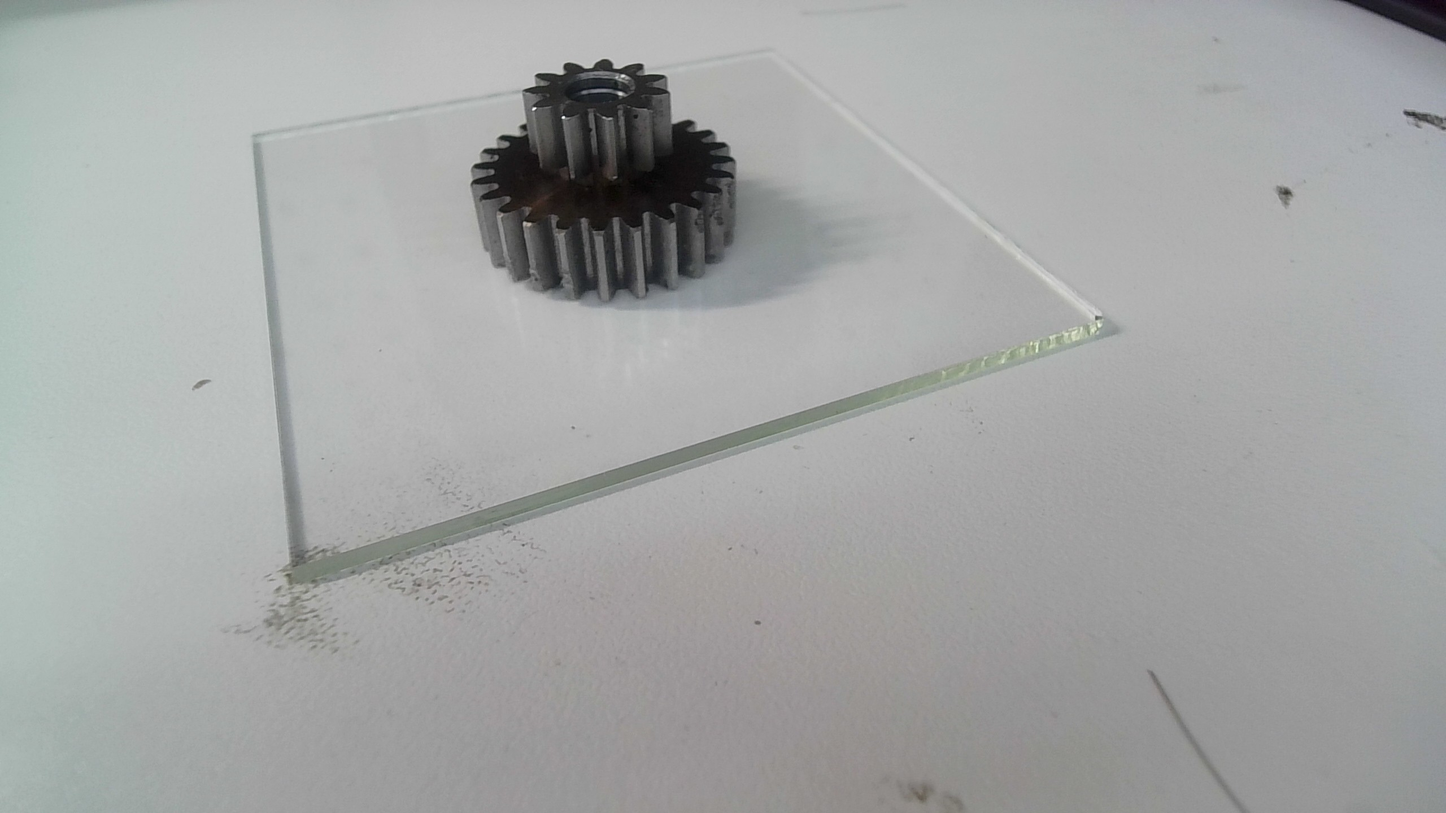gear: (465, 56, 744, 312)
